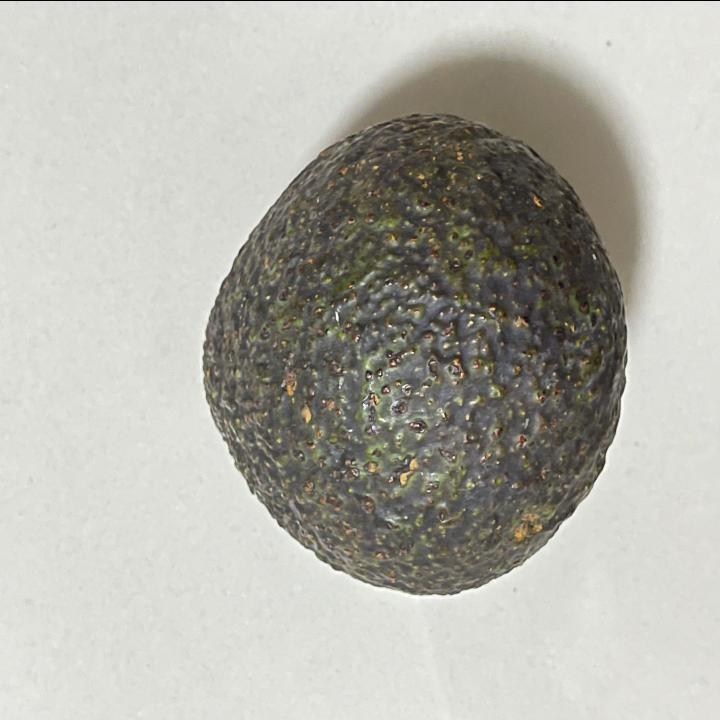Level1: (184, 100, 636, 610)
